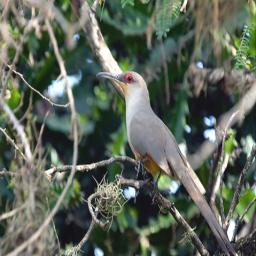Cuckoo: (95, 68, 240, 256)
